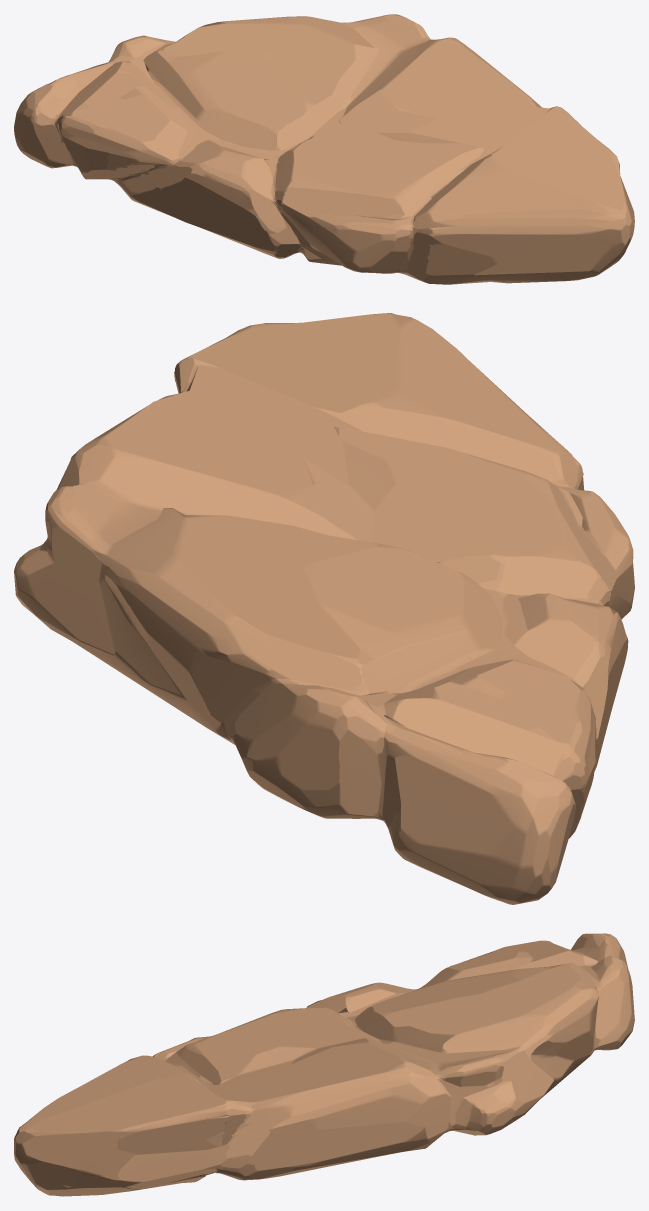
The picture shows the model from 3 angles, top to bottom: view 1: azimuth 30°, elevation 25°; view 2: azimuth 150°, elevation 25°; view 3: azimuth 270°, elevation 25°; orthographic projection. The views are drawn at different scales.
Parts seen in each view (by area): view 1: Mesh_59_LOD0; view 2: Mesh_59_LOD0; view 3: Mesh_59_LOD0.
Part boxes in pixels (x1,y1,x2,y2): Mesh_59_LOD0: (14, 14, 634, 284); Mesh_59_LOD0: (14, 313, 634, 904); Mesh_59_LOD0: (14, 933, 634, 1196).
Size of what is drawn, in the model's own units: 2289 by 723 by 2796.
